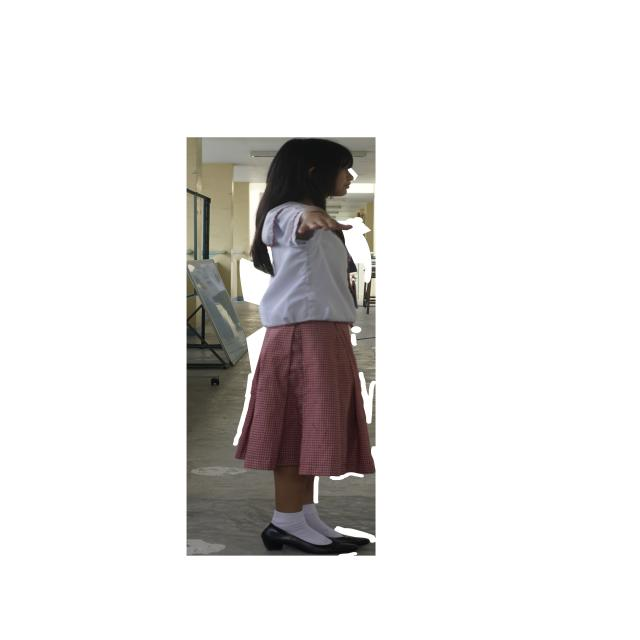shoes: (261, 523, 357, 555)
skirt: (236, 321, 375, 476)
